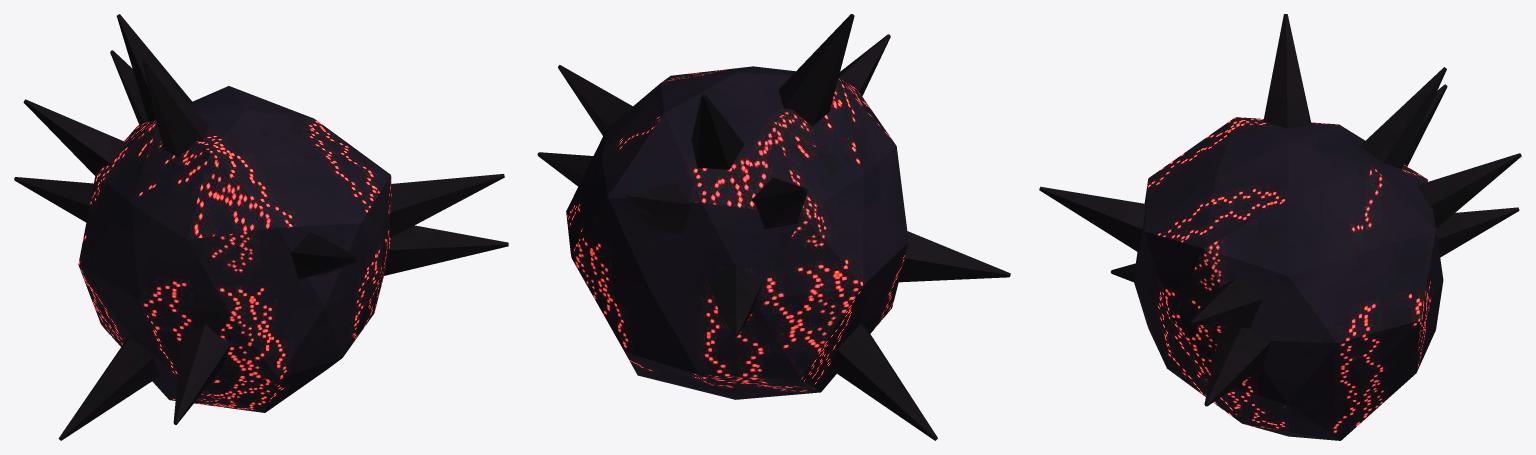
Rendered from demon_core.glb.
3 views of the same model, side by side, from view 1: azimuth 30°, elevation 25°; view 2: azimuth 150°, elevation 25°; view 3: azimuth 270°, elevation 25° (orthographic). The views are drawn at different scales.
Visible parts, largest first — view 1: DemonCore, CoreSpikes; view 2: DemonCore, CoreSpikes; view 3: DemonCore, CoreSpikes.
Boxes of the visible parts, box(x1,y1,x2,y2) form: DemonCore: box(78, 86, 392, 412); CoreSpikes: box(14, 14, 508, 440); DemonCore: box(566, 66, 908, 399); CoreSpikes: box(537, 14, 1010, 440); DemonCore: box(1133, 117, 1443, 440); CoreSpikes: box(1039, 14, 1521, 406).
Size of the model in its own units: 0.2365 by 0.2083 by 0.2446.
3 materials, 2 textured.
